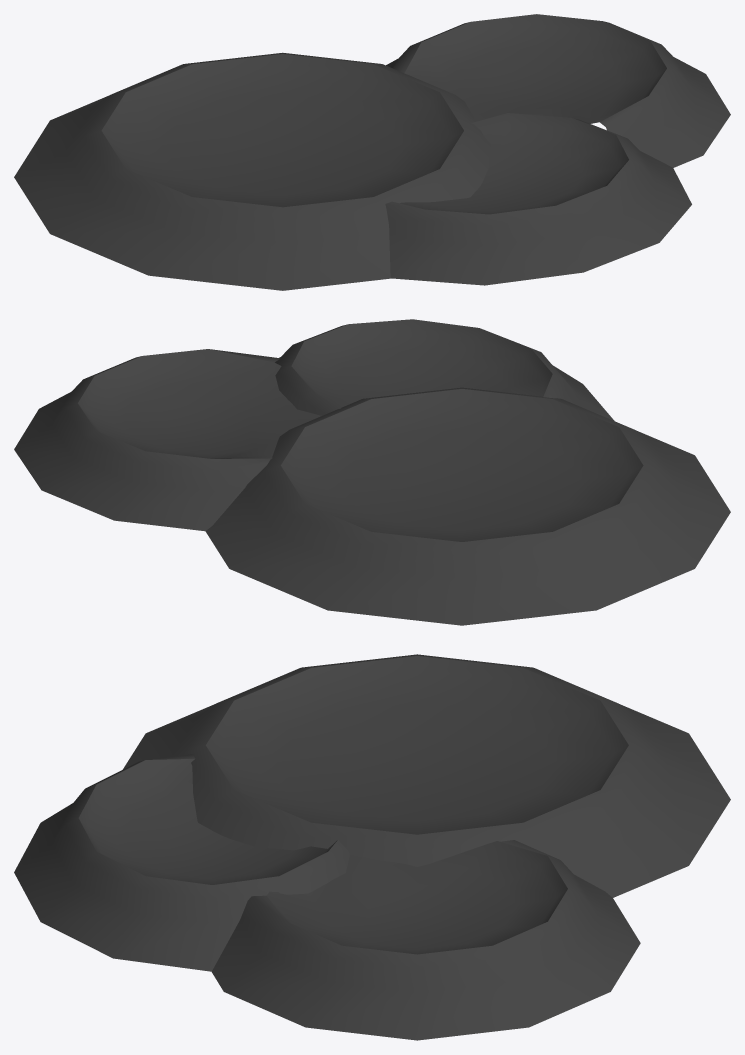
Rendered from crateri.glb.
The picture shows the model from 3 angles, top to bottom: view 1: azimuth 30°, elevation 25°; view 2: azimuth 150°, elevation 25°; view 3: azimuth 270°, elevation 25°; orthographic projection. The views are drawn at different scales.
Visible parts, largest first — view 1: httpssteamusercontentaakamaihdnetugc9304347889126004814B7A9C; view 2: httpssteamusercontentaakamaihdnetugc9304347889126004814B7A9C; view 3: httpssteamusercontentaakamaihdnetugc9304347889126004814B7A9C.
Part boxes in pixels (box(x1,y1,x2,y2)): httpssteamusercontentaakamaihdnetugc9304347889126004814B7A9C: box(14, 14, 730, 290); httpssteamusercontentaakamaihdnetugc9304347889126004814B7A9C: box(14, 319, 730, 625); httpssteamusercontentaakamaihdnetugc9304347889126004814B7A9C: box(14, 654, 730, 1040).
Size of the model in its own units: 1.6 by 0.1086 by 1.3.
Materials: 1 (1 with a texture image).
